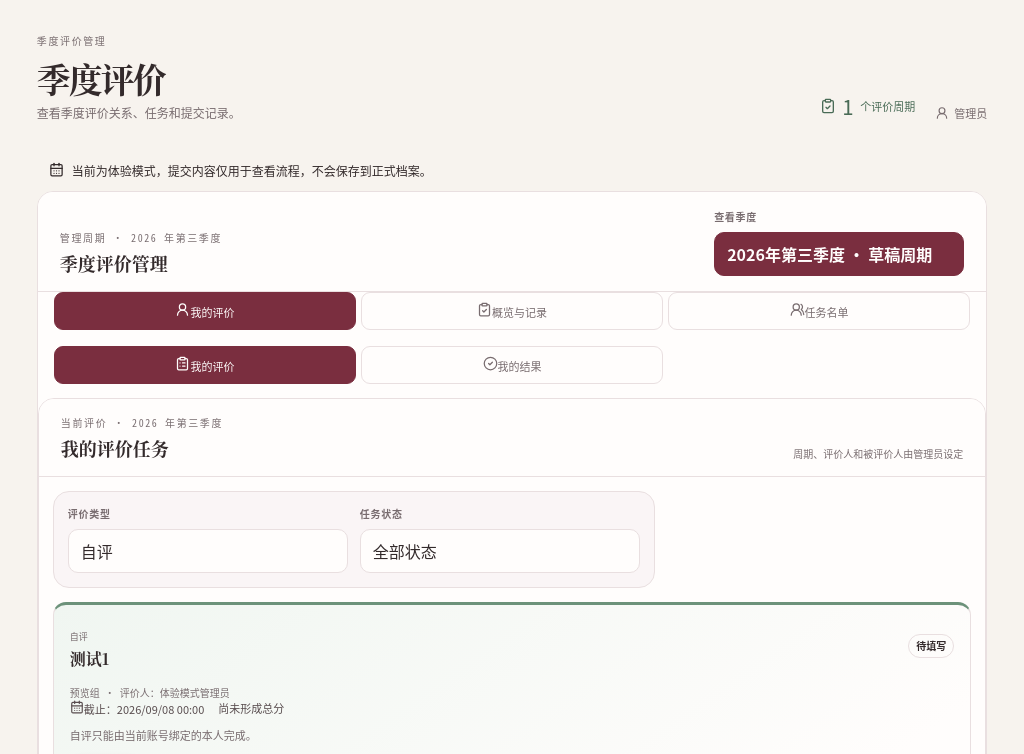
Test case: QuarterlyAssessmentsPage › shows complete roster relationships and explains period setup
The width and height of the screenshot is (1024, 754).
Click the button "任务名单" at {"x": 819, "y": 311}, box [668, 292, 970, 330]
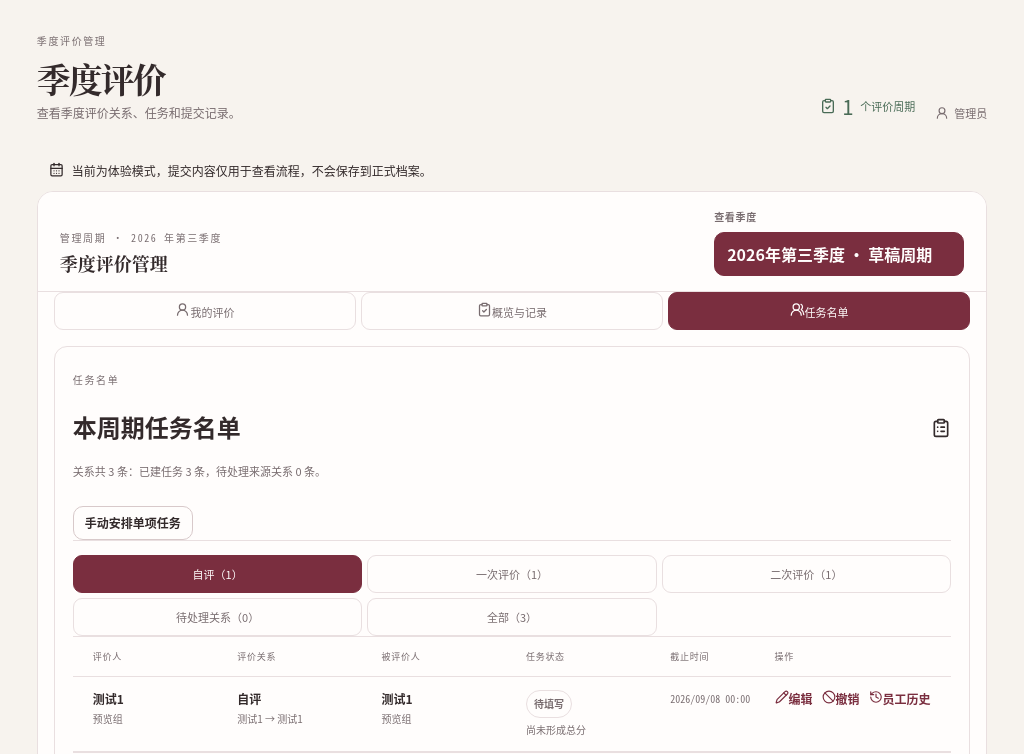
Click the button "手动安排单项任务" at {"x": 133, "y": 523}, box [73, 506, 193, 540]
(page scrolled)
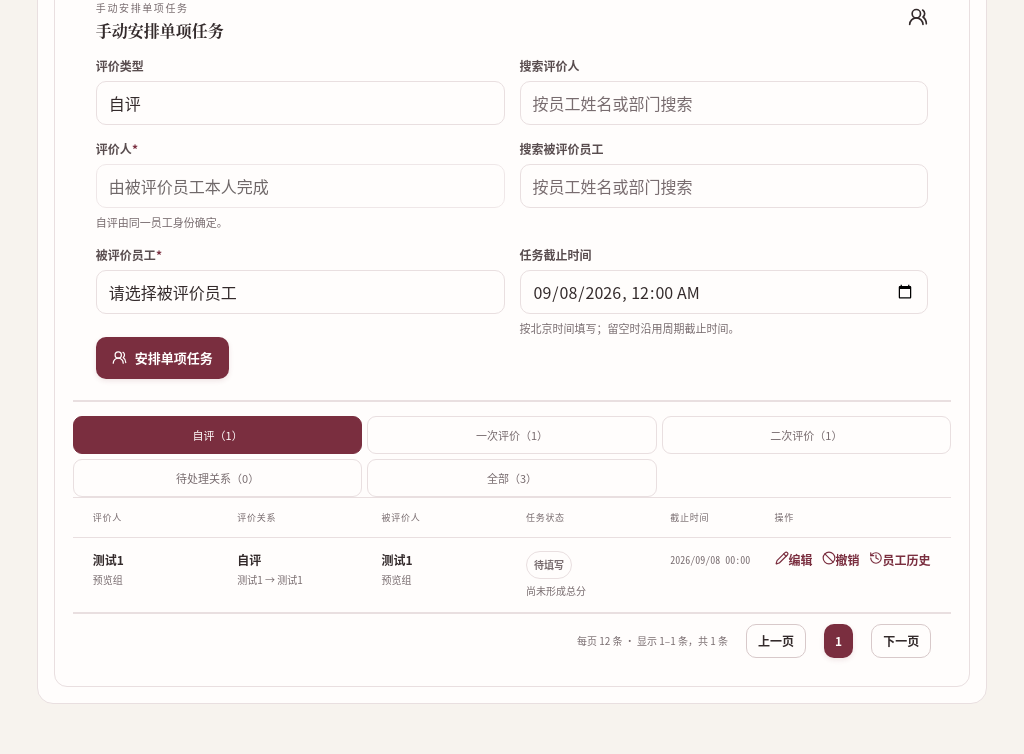
Expected: the text "测试1" is shown, [93, 551, 124, 568]
Now the table shows "预览组", box [93, 572, 123, 587]
Now the button "安排单项任务" is disabled, box [96, 337, 229, 379]
Click the button "待处理关系（0）" at {"x": 218, "y": 478}, box [73, 459, 362, 497]
(page scrolled)
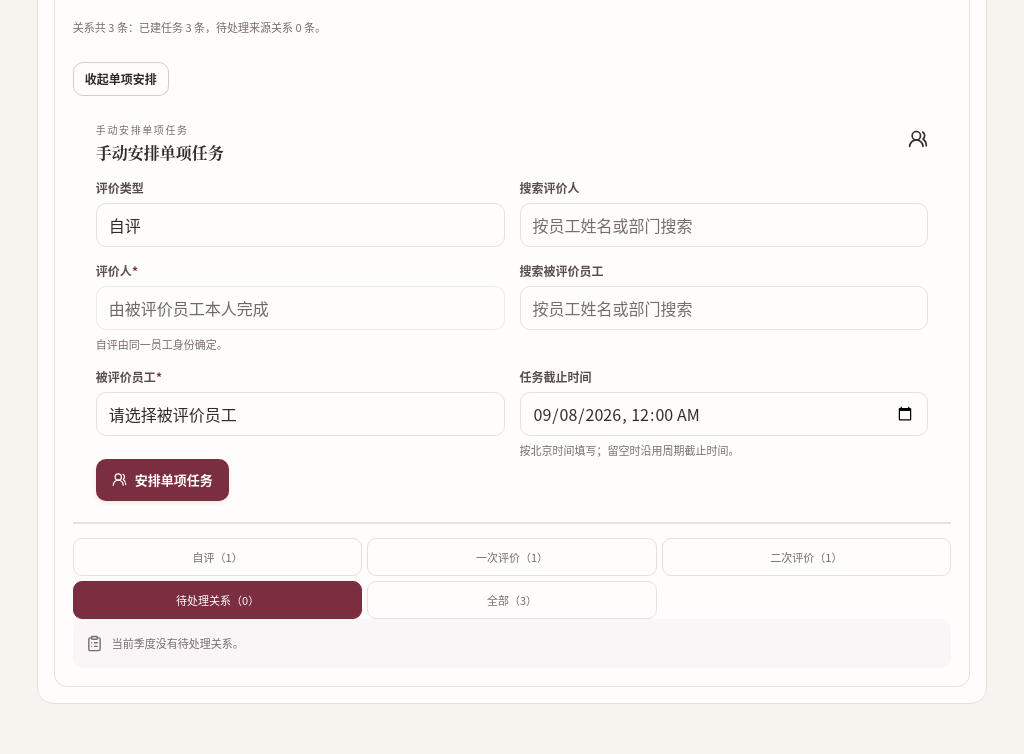
Now the text "当前季度没有待处理关系。" is shown, box [112, 635, 244, 651]
Now no rows are shown
